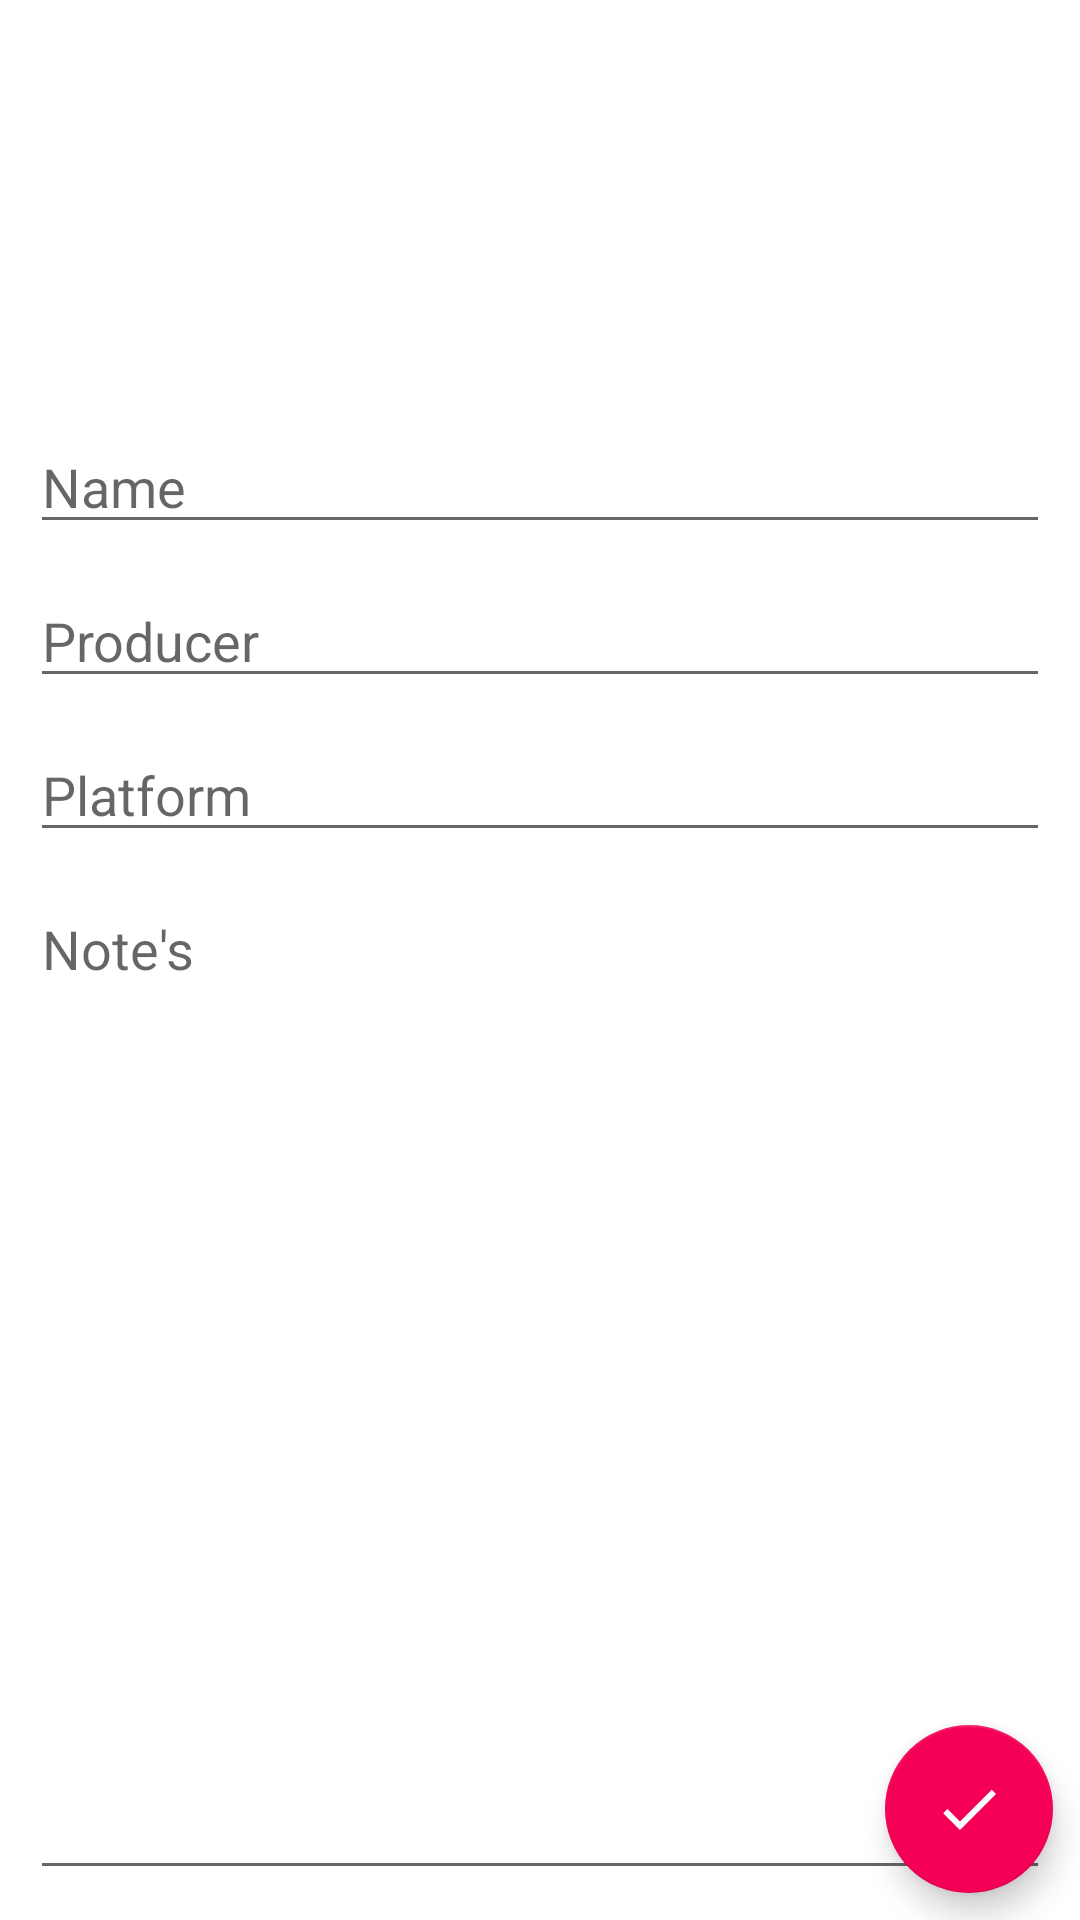

Point at icon controls on the screen. Image size 1080w x 1920h, points as point (x, y).
check: point (969, 1809)
